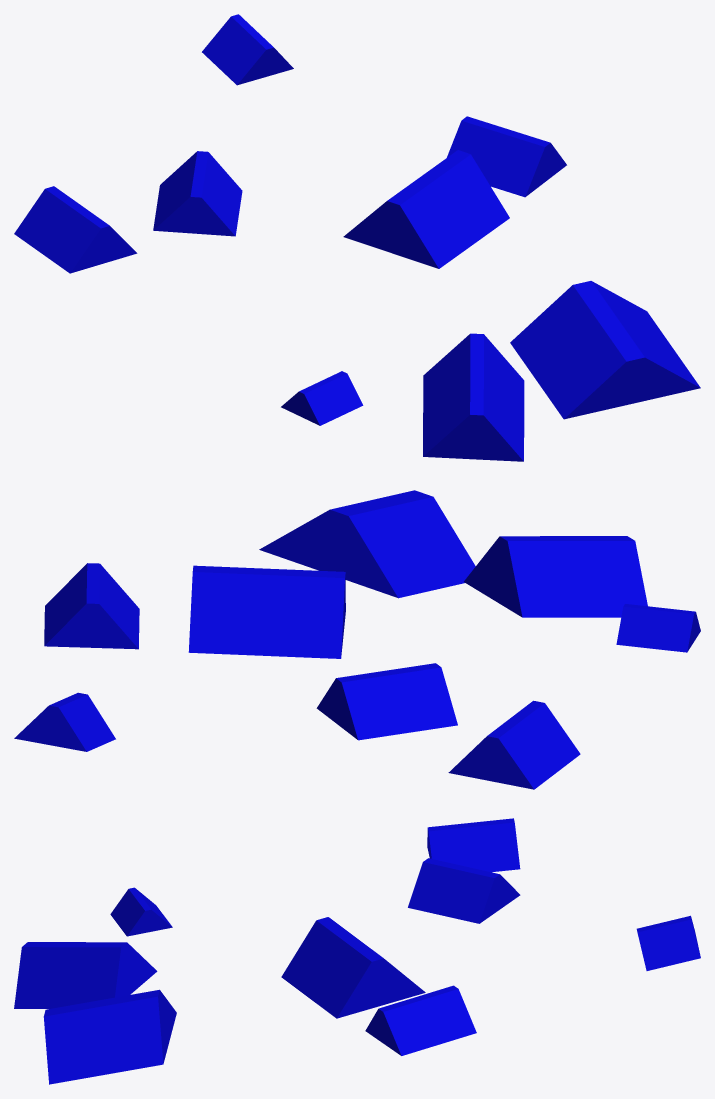
File: Basecamp_GEO.fbx
The picture shows the model from 3 angles, top to bottom: view 1: azimuth 30°, elevation 25°; view 2: azimuth 150°, elevation 25°; view 3: azimuth 270°, elevation 25°; orthographic projection. The views are drawn at different scales.
Parts seen in each view (by area): view 1: tent1, tent2, tent5, tent7, tent3, tent6, tent8, tent4; view 2: tent1, tent5, tent2, tent3, tent7, tent6, tent8, tent4; view 3: tent1, tent5, tent2, tent6, tent3, tent7, tent8, tent4.
Boxes of the visible parts, x1,y1,x2,y2 form: tent1: (510,281,700,419); tent2: (423,333,524,461); tent5: (343,150,509,268); tent7: (14,186,137,273); tent3: (153,151,242,236); tent6: (447,116,566,197); tent8: (202,14,293,85); tent4: (281,371,363,425); tent1: (259,490,475,598); tent5: (188,565,345,658); tent2: (464,536,647,617); tent3: (316,663,457,740); tent7: (448,700,580,789); tent6: (44,563,139,649); tent8: (14,692,115,751); tent4: (616,604,700,652); tent1: (43,989,176,1084); tent5: (281,917,425,1018); tent2: (14,942,157,1008); tent6: (365,985,476,1055); tent3: (408,858,520,923); tent7: (427,818,520,872); tent8: (636,915,700,970); tent4: (110,887,172,936).
Size of the model in its own units: 2471 by 706 by 3358.
